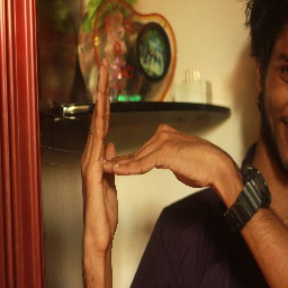Z: (74, 56, 213, 252)
